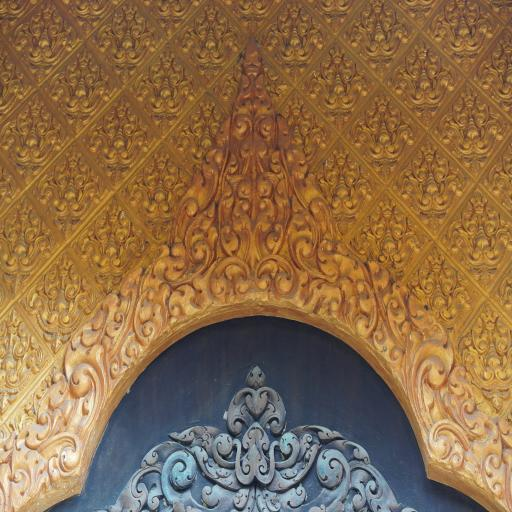la: (290, 147, 406, 379), (107, 150, 219, 379), (406, 293, 512, 512), (0, 309, 107, 512), (218, 38, 290, 301)
lua: (118, 357, 421, 512), (387, 132, 478, 236), (402, 230, 487, 338), (27, 137, 113, 243), (302, 138, 386, 246), (296, 35, 384, 137), (342, 82, 428, 186), (24, 250, 107, 356), (346, 183, 434, 282), (429, 80, 512, 182), (384, 29, 467, 129), (78, 93, 162, 189), (0, 86, 75, 190), (436, 184, 512, 286), (43, 43, 124, 137), (70, 194, 150, 287), (452, 296, 512, 418), (136, 36, 207, 137), (122, 144, 192, 244), (166, 90, 238, 186), (5, 0, 84, 87), (255, 0, 335, 85), (2, 197, 65, 300), (87, 1, 167, 82), (422, 0, 504, 78), (342, 0, 422, 79), (175, 0, 247, 85), (2, 302, 54, 412), (460, 19, 512, 123), (0, 42, 38, 128), (135, 0, 212, 38), (480, 133, 512, 224), (216, 0, 294, 36), (56, 0, 128, 36), (304, 0, 370, 36), (0, 0, 53, 37), (389, 0, 452, 30), (0, 154, 25, 222), (489, 258, 512, 326)
